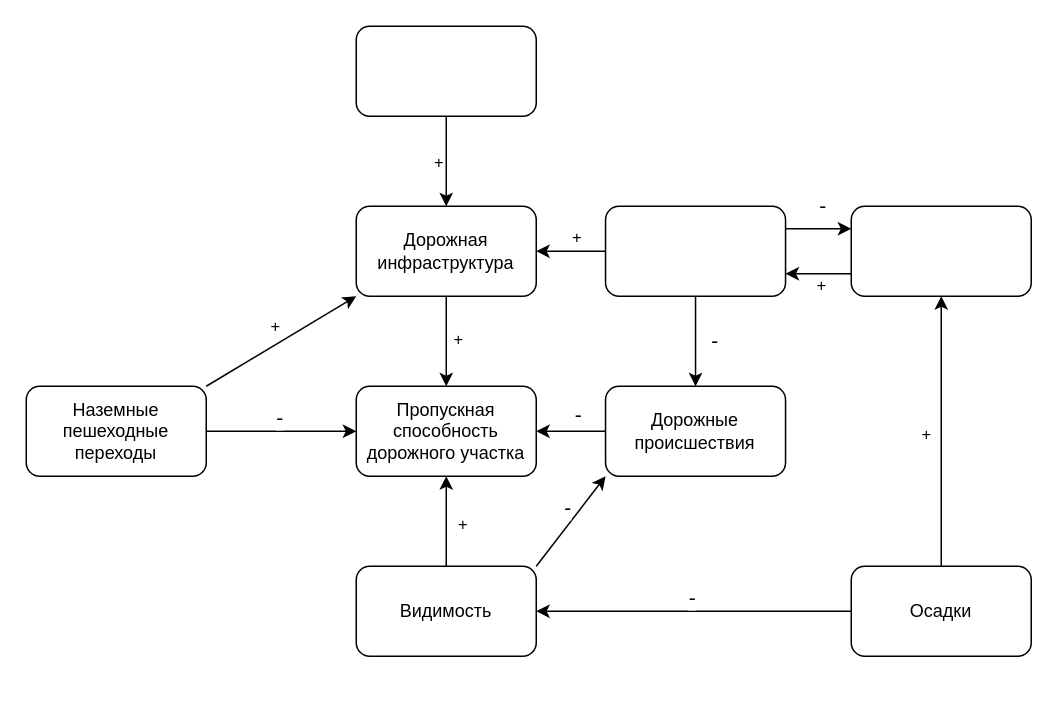
Some shapes in this 1058 by 728 pixel diagram are drawn without their labels. The shapes that lost their labels are listed below. From the top down, each one's centre as x and y in pixels, then its label:
At point (445, 70): "Ширина дороги".
At point (695, 250): "Состояние дорожного покрытия".
At point (940, 250): "Дорожные работы".
